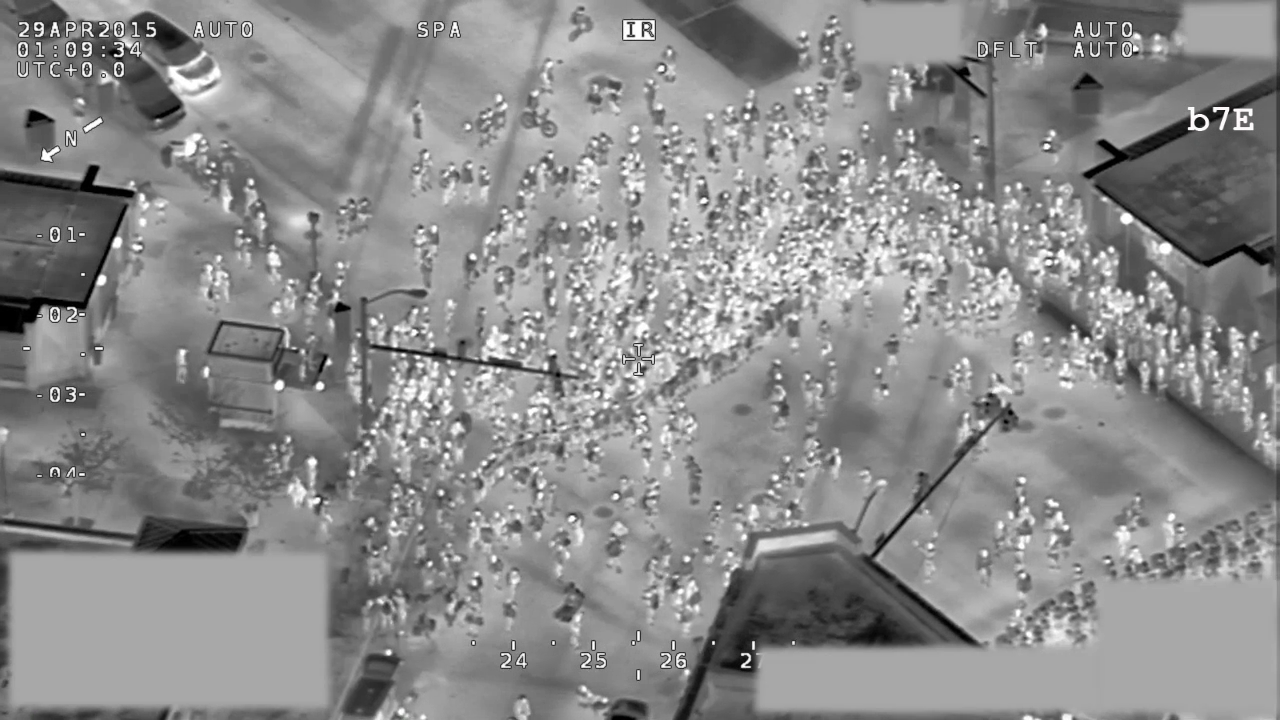vehicle: (65, 31, 187, 137), (121, 6, 227, 102), (340, 650, 420, 720), (1, 2, 70, 53), (601, 692, 651, 720)
